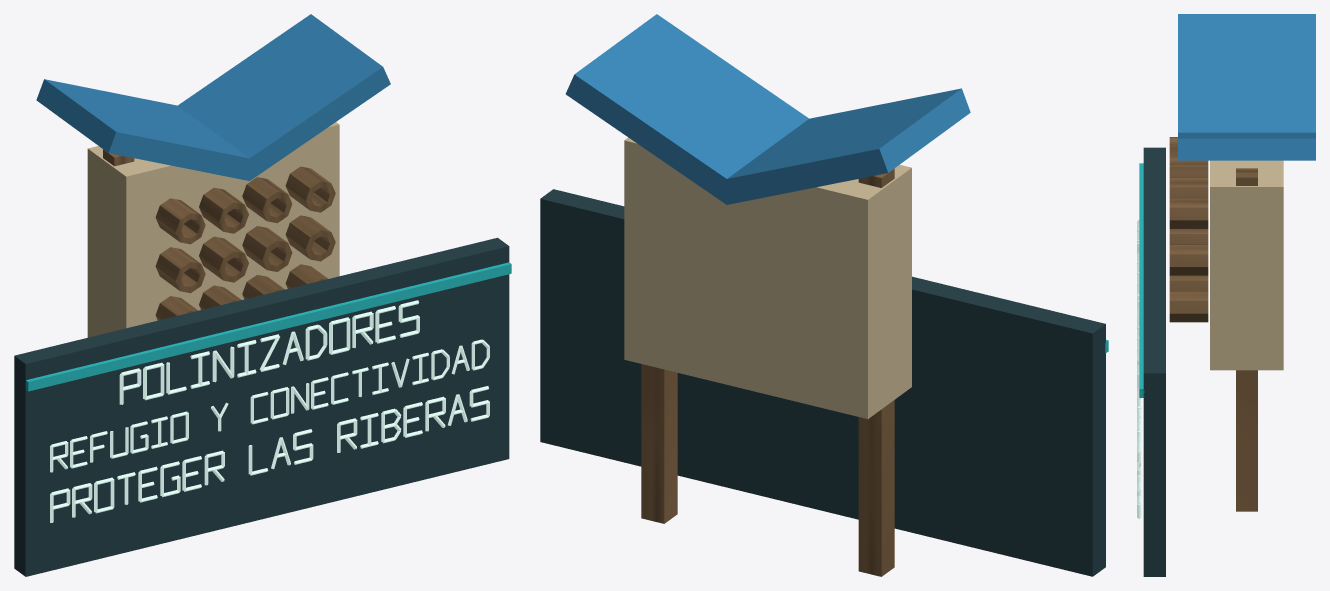
The model's file is AQUA-027.glb.
The picture shows the model from 3 angles, left to right: view 1: azimuth 30°, elevation 25°; view 2: azimuth 150°, elevation 25°; view 3: azimuth 270°, elevation 25°; orthographic projection. The views are drawn at different scales.
Visible parts, largest first — view 1: AQUA-027; view 2: AQUA-027; view 3: AQUA-027.
Boxes of the visible parts, x1,y1,x2,y2 form: AQUA-027: [14, 14, 511, 576]; AQUA-027: [540, 14, 1108, 576]; AQUA-027: [1137, 14, 1315, 576].
Bounding box in the file's own units: 2.9 × 2.32 × 0.9716.
7 materials, 1 textured.
